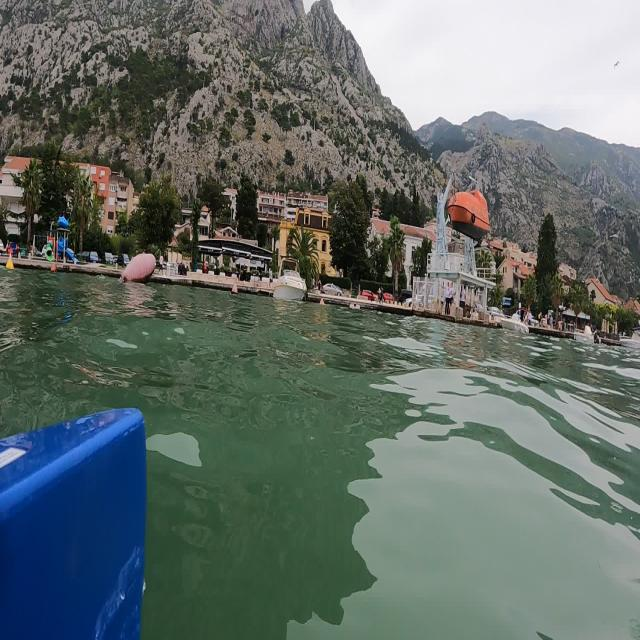boat: (268, 251, 310, 311)
buoy: (110, 250, 168, 298)
